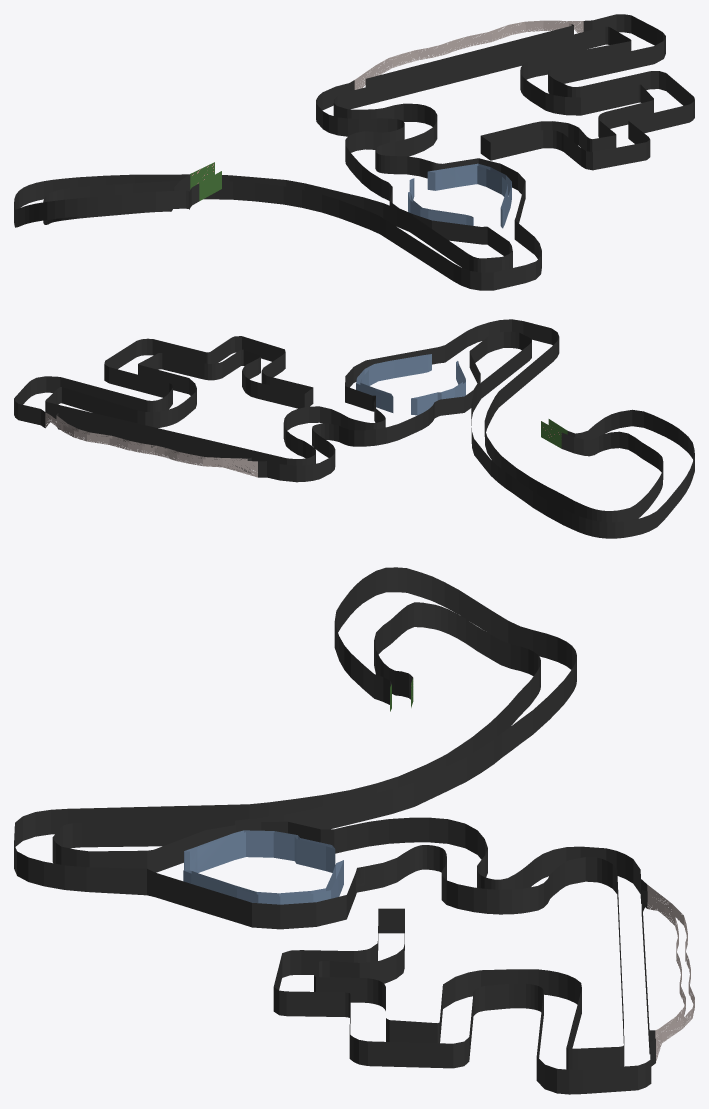
The model's file is Trottoir_barrieres.fbx.
The picture shows the model from 3 angles, top to bottom: view 1: azimuth 30°, elevation 25°; view 2: azimuth 150°, elevation 25°; view 3: azimuth 270°, elevation 25°; orthographic projection. The views are drawn at different scales.
Parts seen in each view (by area): view 1: Trottoirs.006; view 2: Trottoirs.006; view 3: Trottoirs.006.
Part boxes in pixels (x1,y1,x2,y2): Trottoirs.006: (14,14,694,290); Trottoirs.006: (14,319,694,538); Trottoirs.006: (14,567,694,1094).
Bounding box in the file's own units: 45996 × 4409 × 29311.
